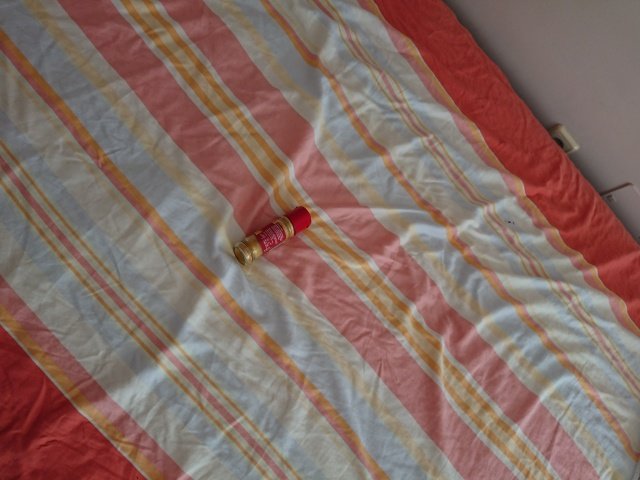Kotanyi Curry Spices Mix 70g: (230, 203, 313, 268)
